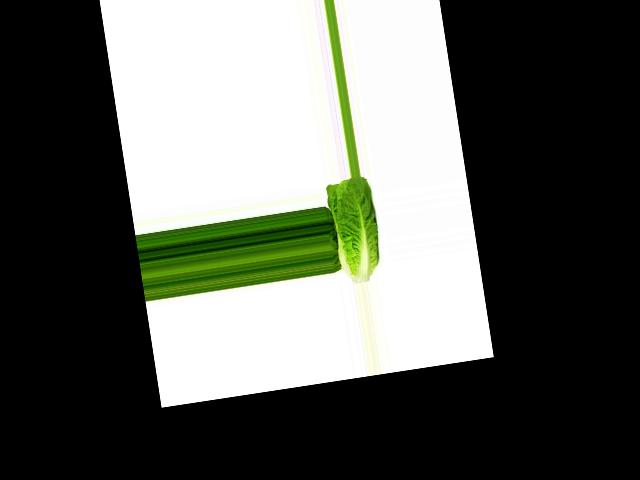lettuce: (326, 173, 392, 285)
